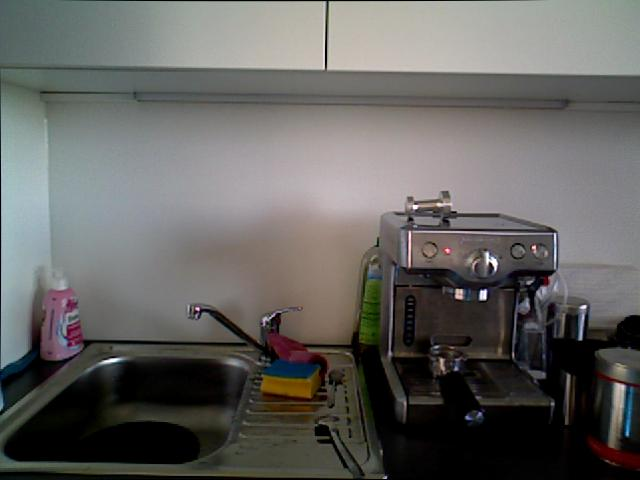bench: (30, 262, 89, 361), (357, 236, 382, 346)
couch: (1, 349, 254, 471)
toilet: (302, 409, 376, 480), (321, 367, 351, 410)
